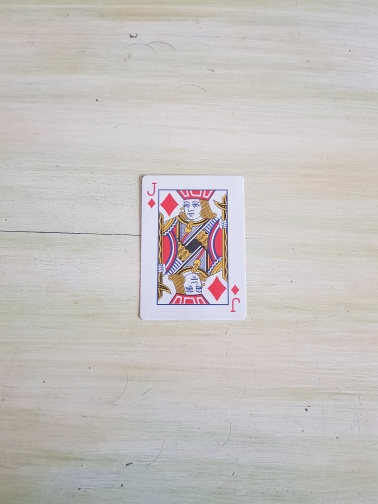jack: (138, 174, 247, 322)
